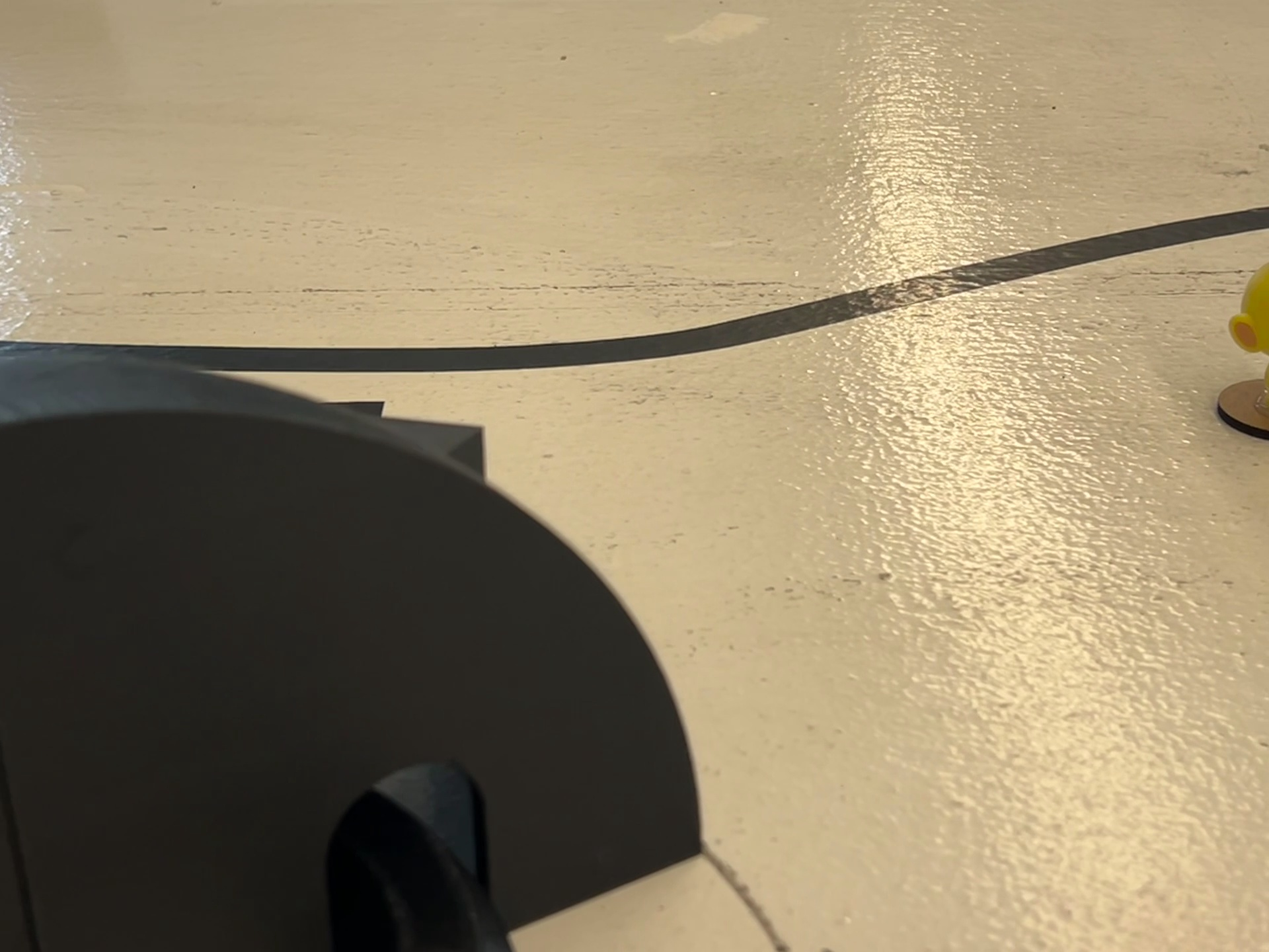teletubby: (1229, 264, 1268, 354), (1256, 369, 1268, 413)
